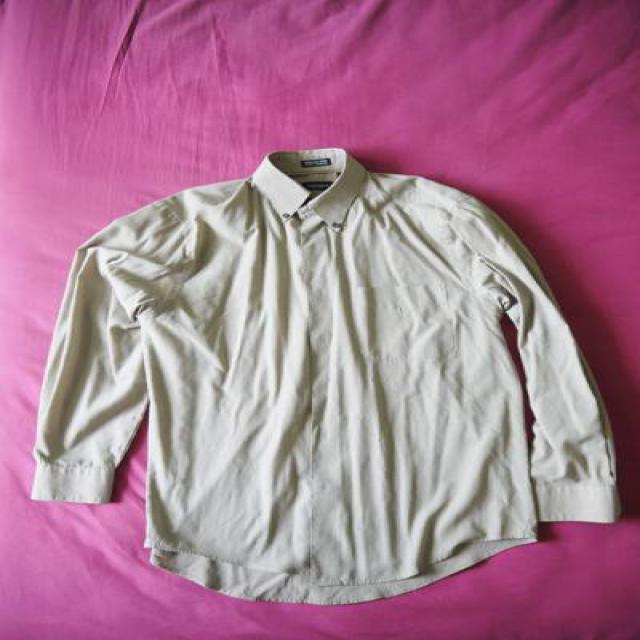Clothes -Biodegradable-: (32, 146, 624, 604)
